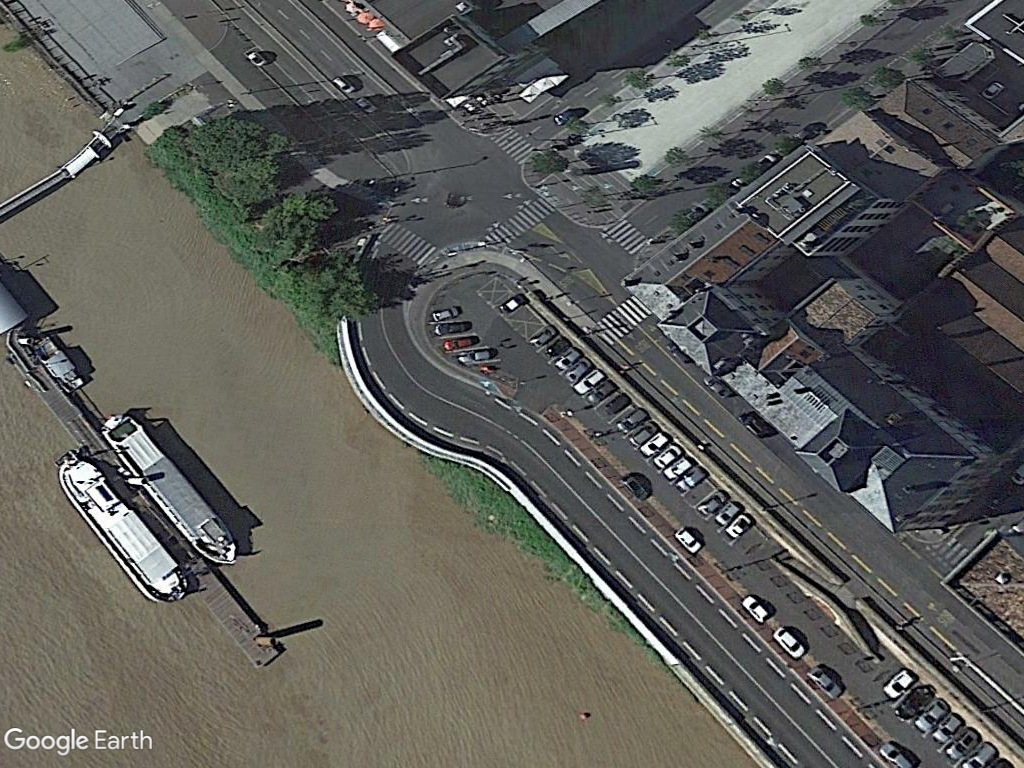boat: (97, 409, 244, 571), (50, 447, 193, 607)
car: (667, 519, 708, 558)
